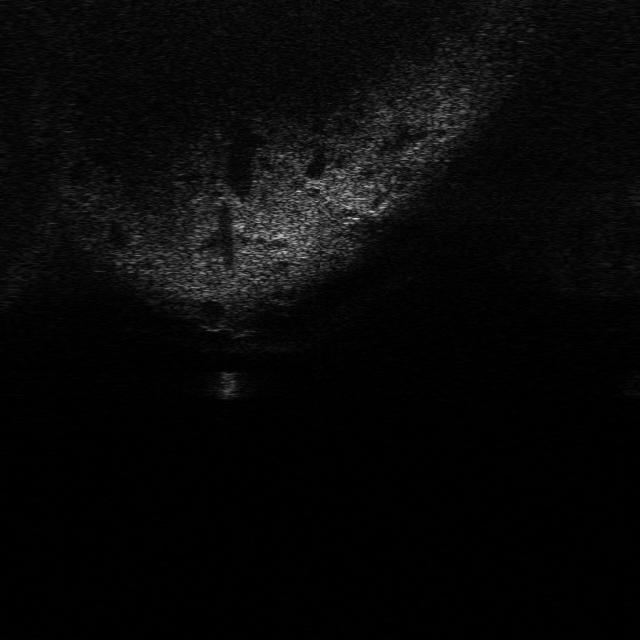cylinder: (210, 368, 246, 401)
